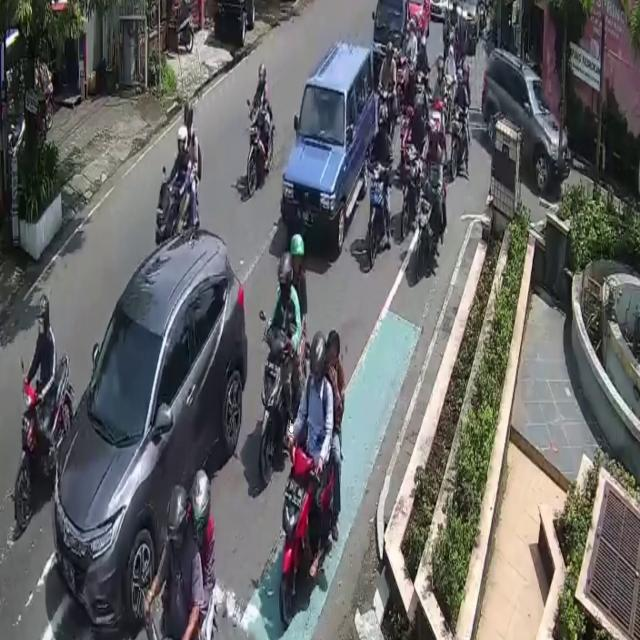bus: (276, 435, 335, 620), (17, 356, 74, 536), (262, 317, 308, 472), (237, 111, 275, 196), (155, 174, 195, 244), (417, 178, 443, 270), (368, 156, 390, 262), (402, 139, 419, 239)
motorcycle: (51, 227, 251, 632), (281, 37, 377, 254), (482, 44, 570, 192), (372, 1, 412, 68)
